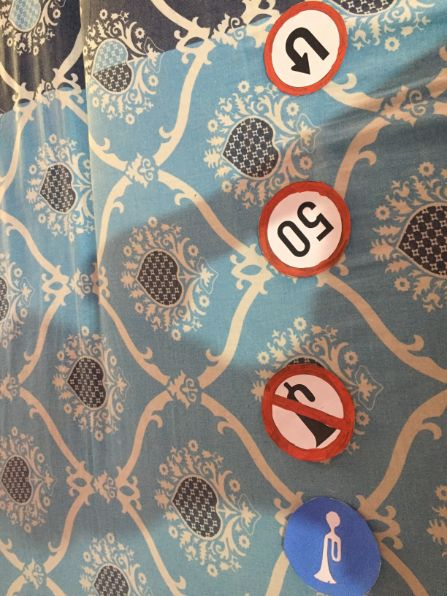blow-horn: (285, 496, 384, 596)
no-horn: (262, 367, 358, 463)
speed-50: (258, 179, 358, 279)
u-turn: (262, 1, 361, 98)
